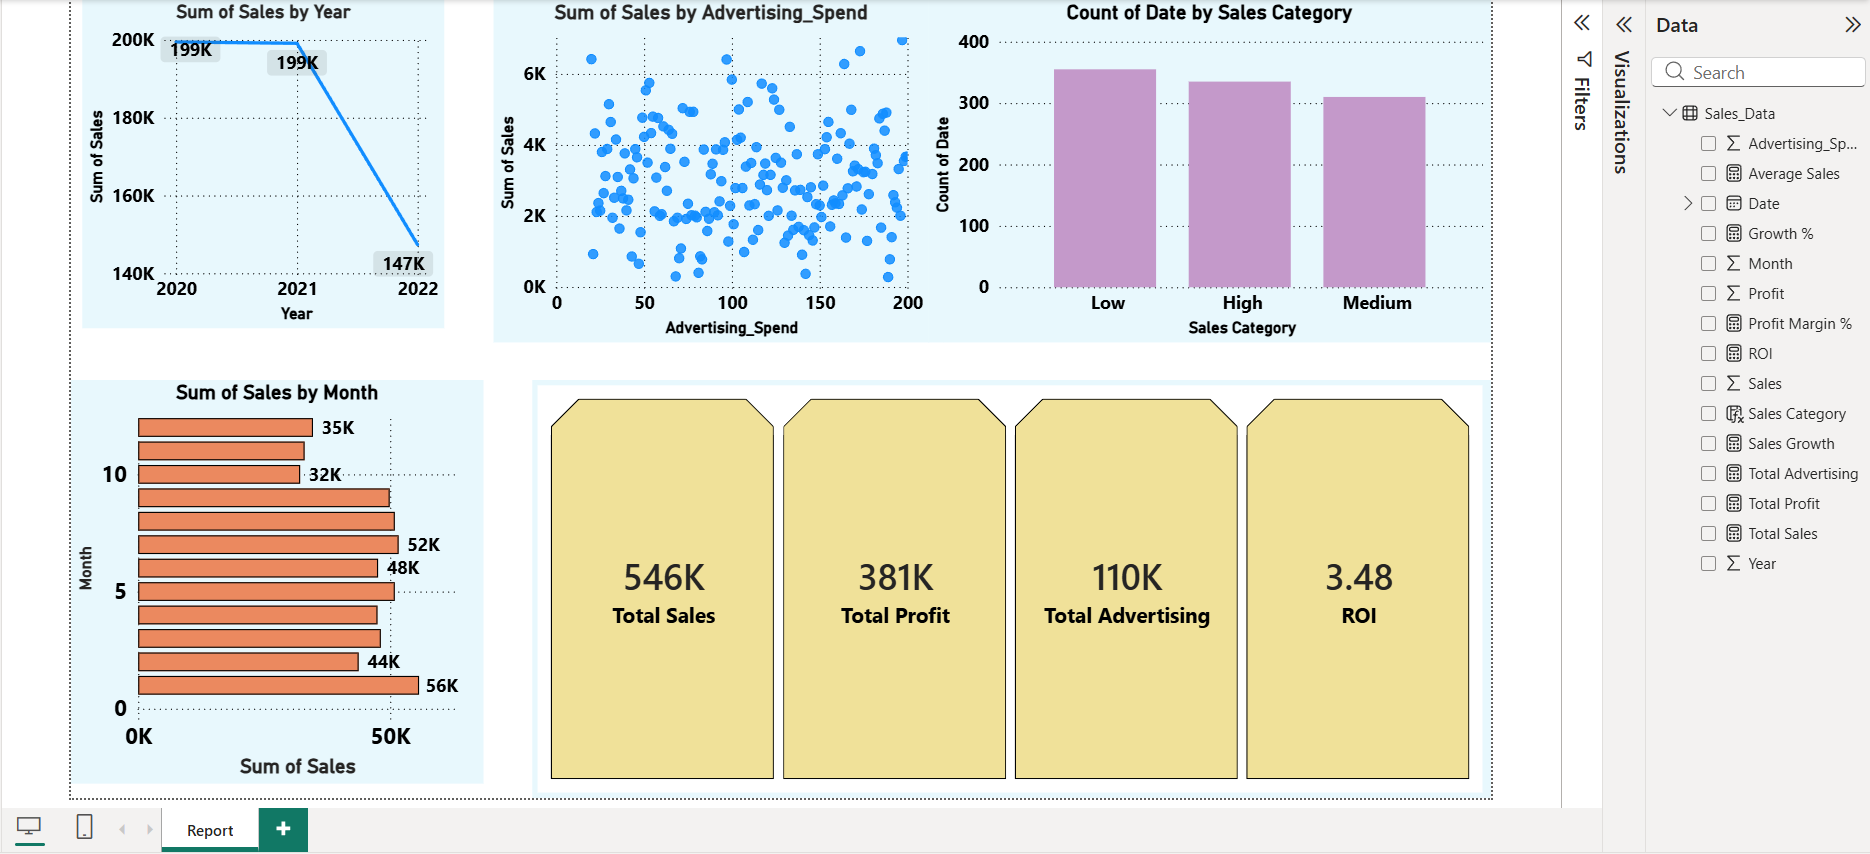

This screenshot's page, from the dashboard's own definition file:
{"tool":"powerbi","page":{"name":"Page 1","canvas":[1280,720],"ordinal":0},"visuals":[{"type":"lineChart","fields":{"Category":["Sales_Data.Date.Variation.Date Hierarchy.Year","Sales_Data.Date.Variation.Date Hierarchy.Quarter","Sales_Data.Date.Variation.Date Hierarchy.Month","Sales_Data.Date.Variation.Date Hierarchy.Day"],"Y":["Sum(Sales_Data.Sales)"]},"box":[9.6,0,326.6,296.4],"z":0},{"type":"barChart","fields":{"Category":["Sales_Data.Month"],"Y":["Sum(Sales_Data.Sales)"]},"box":[0,343.1,371.9,363.6],"z":1},{"type":"scatterChart","fields":{"Y":["Sum(Sales_Data.Sales)"],"X":["Sales_Data.Advertising_Spend"]},"box":[381.5,0,392.5,308.7],"z":2},{"type":"cardVisual","fields":{"Data":["Sales_Data.Total Sales","Sales_Data.Total Profit","Sales_Data.Total Advertising","Sales_Data.ROI"]},"box":[415.8,343.1,864.5,377.4],"z":3},{"type":"clusteredColumnChart","fields":{"Category":["Sales_Data.Sales Category"],"Y":["CountNonNull(Sales_Data.Date)"]},"box":[773,0,507,309],"z":4}]}

Visuals, with their boxes on the page's 1280x720 design canvas (x1, y1, x2, y2). These are canvas units, not pixel positions in the 1870x854 screenshot, which may show the page scaled, cropped or inside an application window:
lineChart - Sales_Data.Date.Variation.Date Hierarchy.Year x Sales_Data.Date.Variation.Date Hierarchy.Quarter: {"x1": 10, "y1": 0, "x2": 336, "y2": 296}
barChart - Sales_Data.Month x Sum(Sales_Data.Sales): {"x1": 0, "y1": 343, "x2": 372, "y2": 707}
scatterChart - Sum(Sales_Data.Sales) x Sales_Data.Advertising_Spend: {"x1": 382, "y1": 0, "x2": 774, "y2": 309}
cardVisual - Sales_Data.Total Sales x Sales_Data.Total Profit: {"x1": 416, "y1": 343, "x2": 1280, "y2": 720}
clusteredColumnChart - Sales_Data.Sales Category x CountNonNull(Sales_Data.Date): {"x1": 773, "y1": 0, "x2": 1280, "y2": 309}
